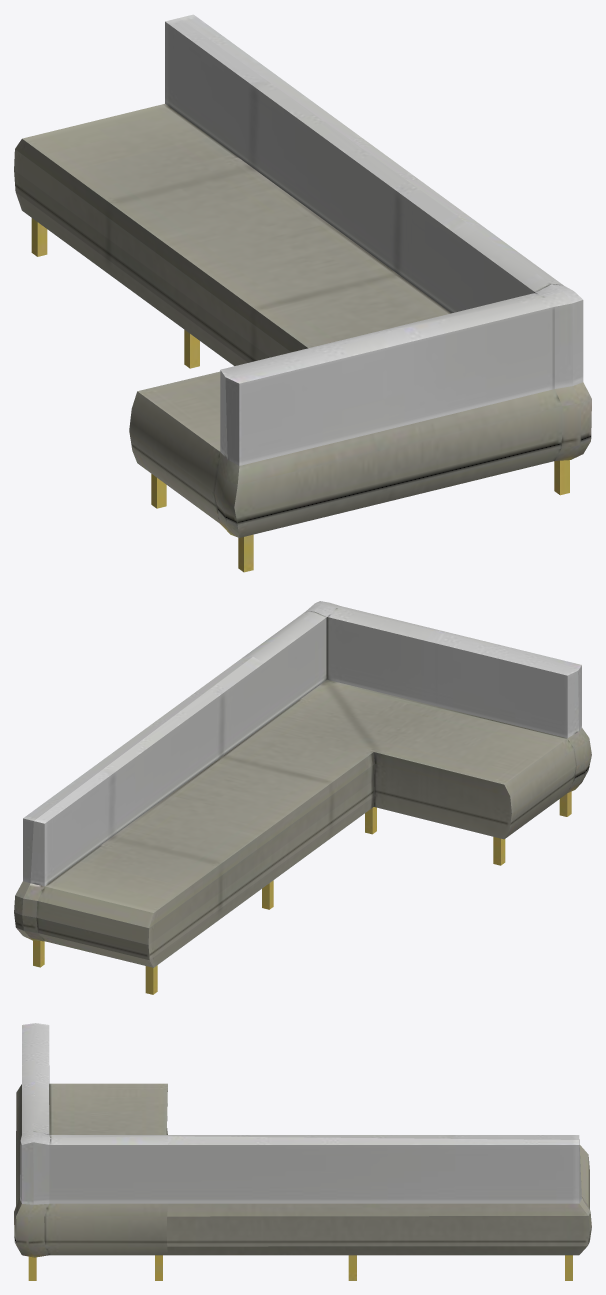
File: divano.FBX
3 views of the same model, one above another, from view 1: azimuth 30°, elevation 25°; view 2: azimuth 150°, elevation 25°; view 3: azimuth 270°, elevation 25° (orthographic). The views are drawn at different scales.
Visible parts, largest first — view 1: divano l; view 2: divano l; view 3: divano l.
Part boxes in pixels (left/top/right/bottom): divano l: left=14, top=14, right=591, bottom=572; divano l: left=14, top=601, right=591, bottom=994; divano l: left=14, top=1023, right=591, bottom=1280.
Size of the model in its own units: 1.85 by 0.9744 by 3.56.
